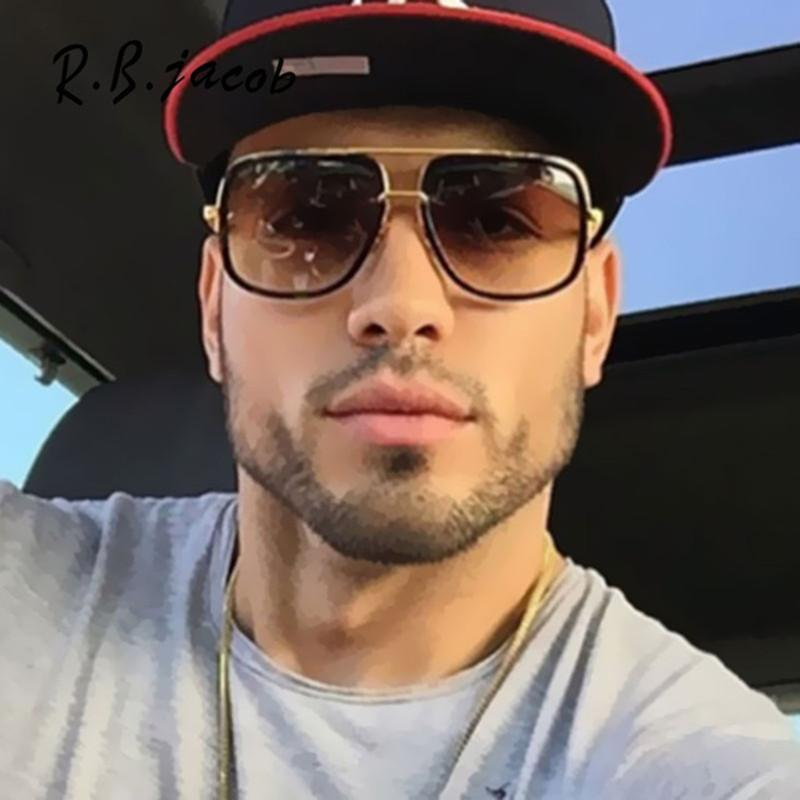sunglasses: (187, 148, 641, 314)
